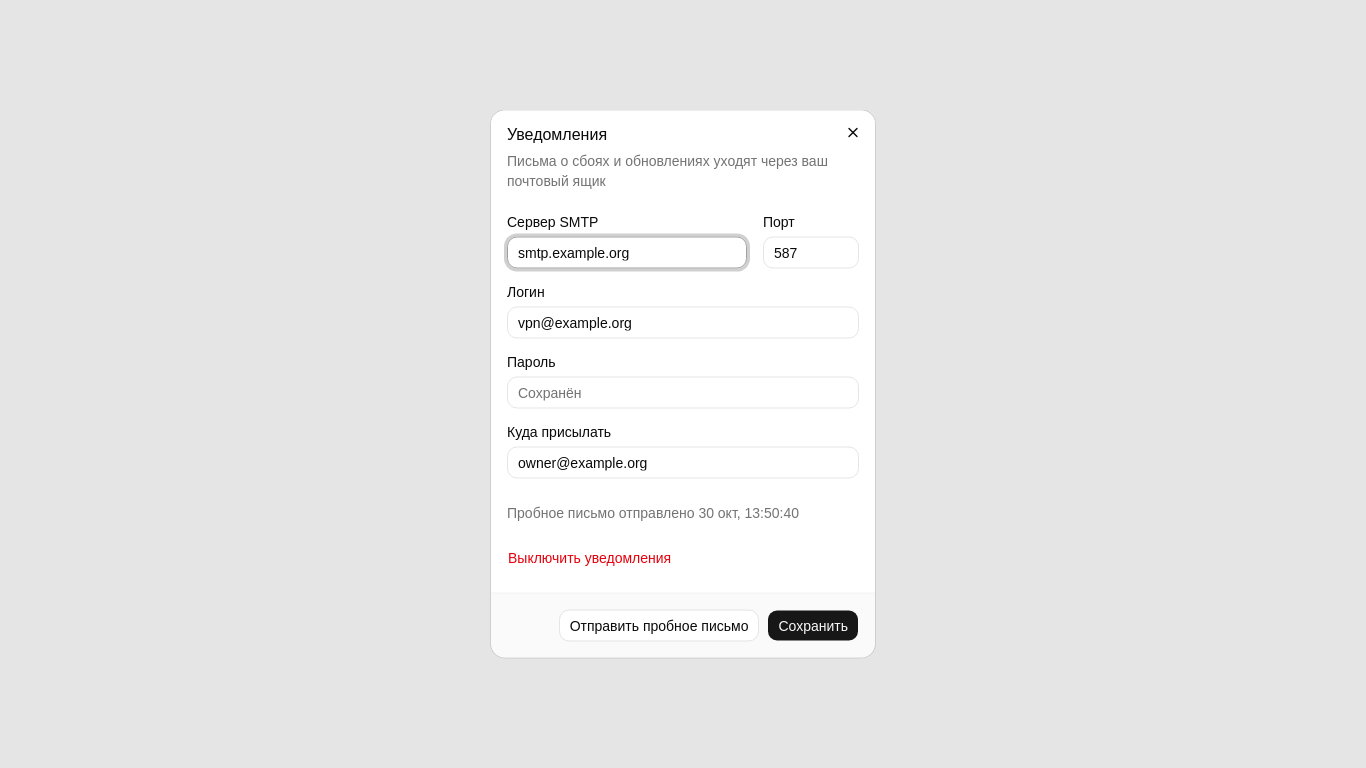
Scenario: уведомления › не даёт отправить пробное письмо по несохранённым полям
Expected: the button "Отправить пробное письмо" is enabled, [559,610,759,642]
Type "x" into the field labelled "Куда присылать".
click(683, 462); type("x")  # box [507,446,859,478]
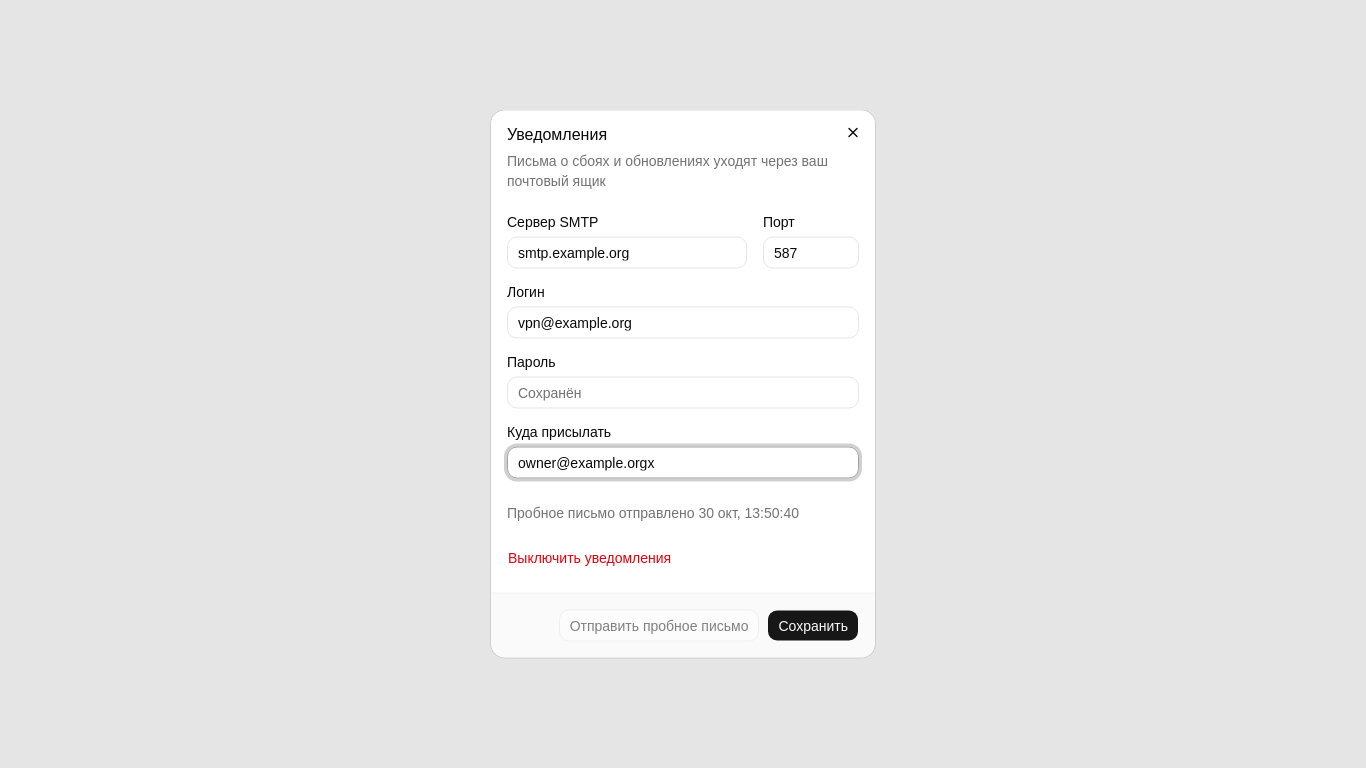
Expected: the button "Отправить пробное письмо" is disabled, [559,610,759,642]
